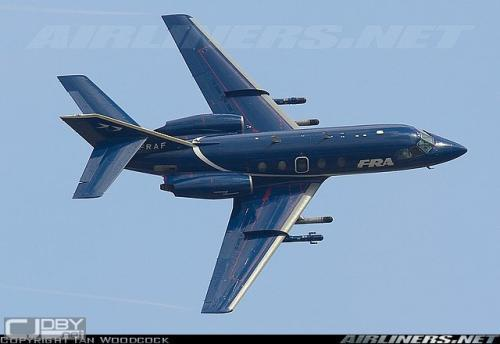airplane: (26, 14, 469, 318)
